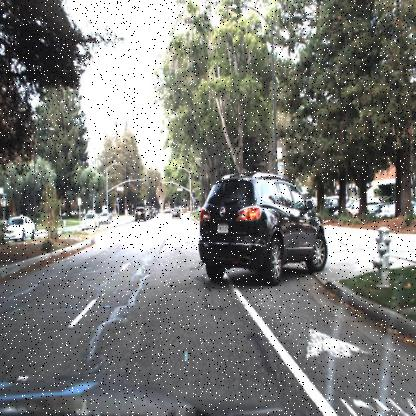car: (197, 166, 329, 284), (1, 216, 36, 244), (78, 211, 99, 231), (80, 212, 99, 230), (133, 204, 147, 223), (170, 204, 184, 218), (99, 210, 111, 226), (134, 208, 146, 224)
